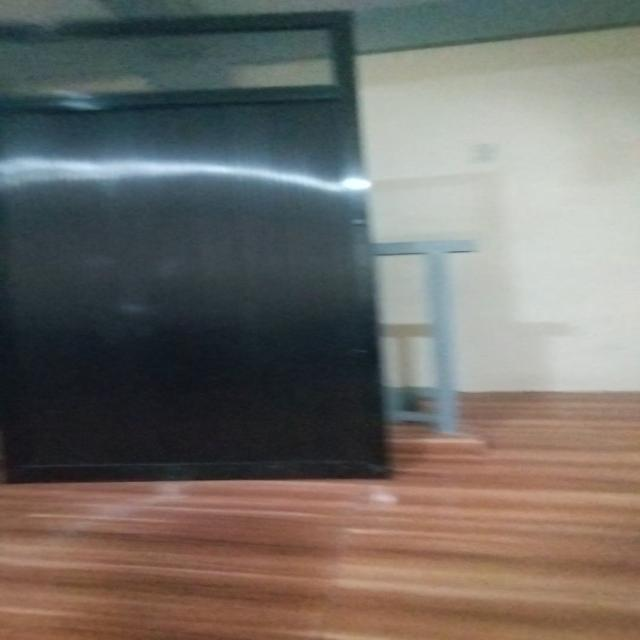door: (0, 20, 400, 479)
